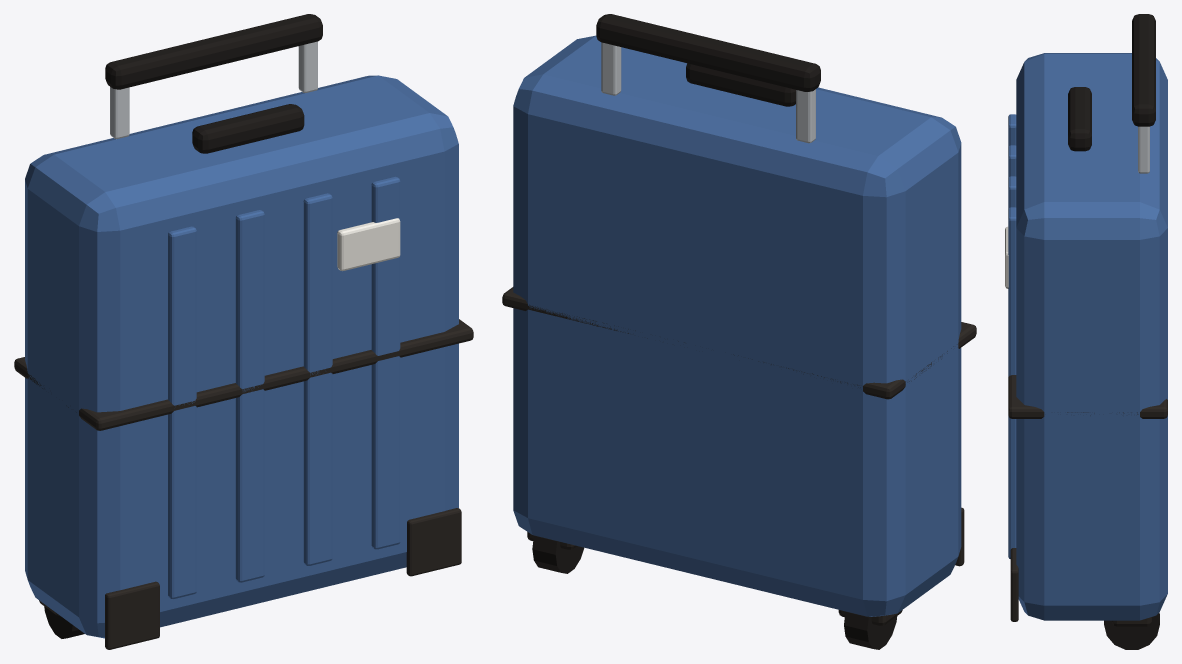
The model's file is hh_cat_suitcase.glb.
3 renders of one model, left to right at view 1: azimuth 30°, elevation 25°; view 2: azimuth 150°, elevation 25°; view 3: azimuth 270°, elevation 25°, orthographic. The views are drawn at different scales.
Parts seen in each view (by area): view 1: body, body_rib.001, body_rib.002, body_rib, body_rib.003, handle_grip, zip_seam, carry_handle, corner_guard.001, corner_guard, luggage_tag, handle_rod (+1 smaller); view 2: body, handle_grip, carry_handle, zip_seam, wheel, wheel.001, handle_rod.001, handle_rod; view 3: body, body_rib.003, handle_grip, carry_handle, wheel.001, zip_seam, corner_guard.001, handle_rod.001, body_rib, body_rib.001, body_rib.002, wheel_housing.001.
Boxes of the visible parts, box(x1,y1,x2,y2) form: body: box(25, 75, 458, 638); body_rib.001: box(235, 210, 264, 582); body_rib.002: box(303, 193, 332, 565); body_rib: box(168, 226, 196, 599); body_rib.003: box(371, 176, 400, 549); handle_grip: box(105, 14, 322, 89); zip_seam: box(14, 319, 473, 430); carry_handle: box(192, 104, 304, 153); corner_guard.001: box(406, 508, 461, 576); corner_guard: box(105, 581, 159, 649); luggage_tag: box(337, 218, 400, 270); handle_rod: box(110, 87, 129, 139); body: box(513, 35, 961, 616); handle_grip: box(596, 14, 820, 91); carry_handle: box(686, 63, 795, 106); zip_seam: box(502, 287, 976, 399); wheel: box(844, 611, 897, 649); wheel.001: box(532, 535, 584, 573); handle_rod.001: box(601, 42, 621, 95); handle_rod: box(796, 89, 815, 143); body: box(1016, 53, 1167, 620); body_rib.003: box(1008, 207, 1016, 558); handle_grip: box(1132, 14, 1155, 126); carry_handle: box(1068, 87, 1091, 151); wheel.001: box(1104, 612, 1159, 649); zip_seam: box(1008, 375, 1167, 418); corner_guard.001: box(1010, 548, 1018, 621); handle_rod.001: box(1138, 126, 1149, 173); body_rib: box(1008, 114, 1016, 146); body_rib.001: box(1008, 145, 1016, 177); body_rib.002: box(1008, 176, 1016, 208); wheel_housing.001: box(1112, 617, 1151, 626).
Bounding box in the file's own units: 0.5 × 0.7 × 0.2.
